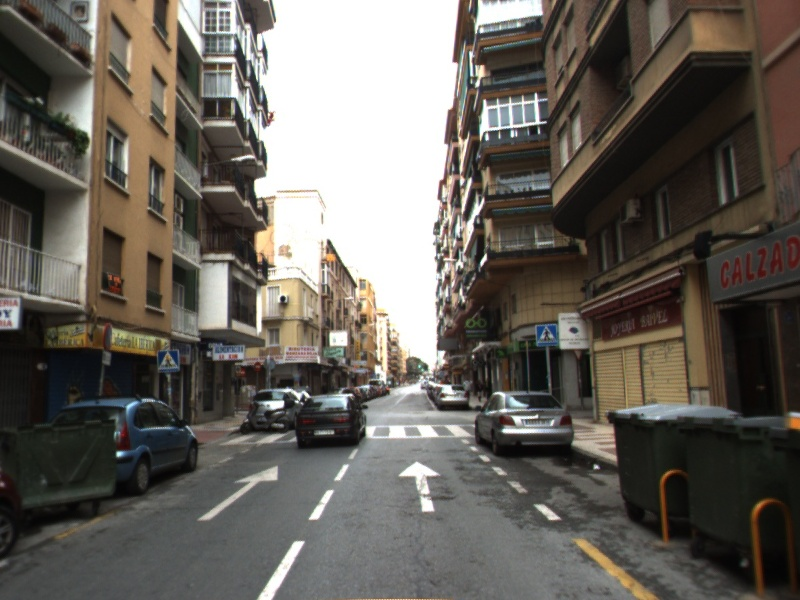STRAIGHT: (195, 463, 280, 523), (396, 459, 443, 514)
